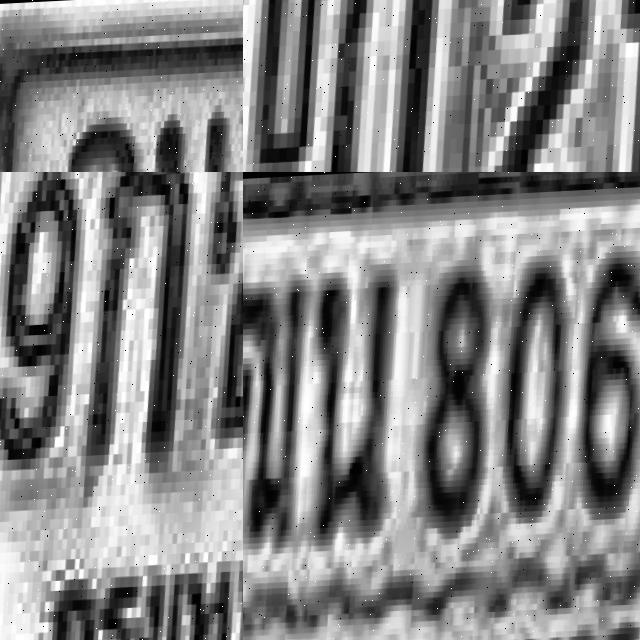license-plate: (243, 172, 640, 640), (0, 172, 243, 640), (243, 0, 640, 172), (0, 0, 243, 172)
